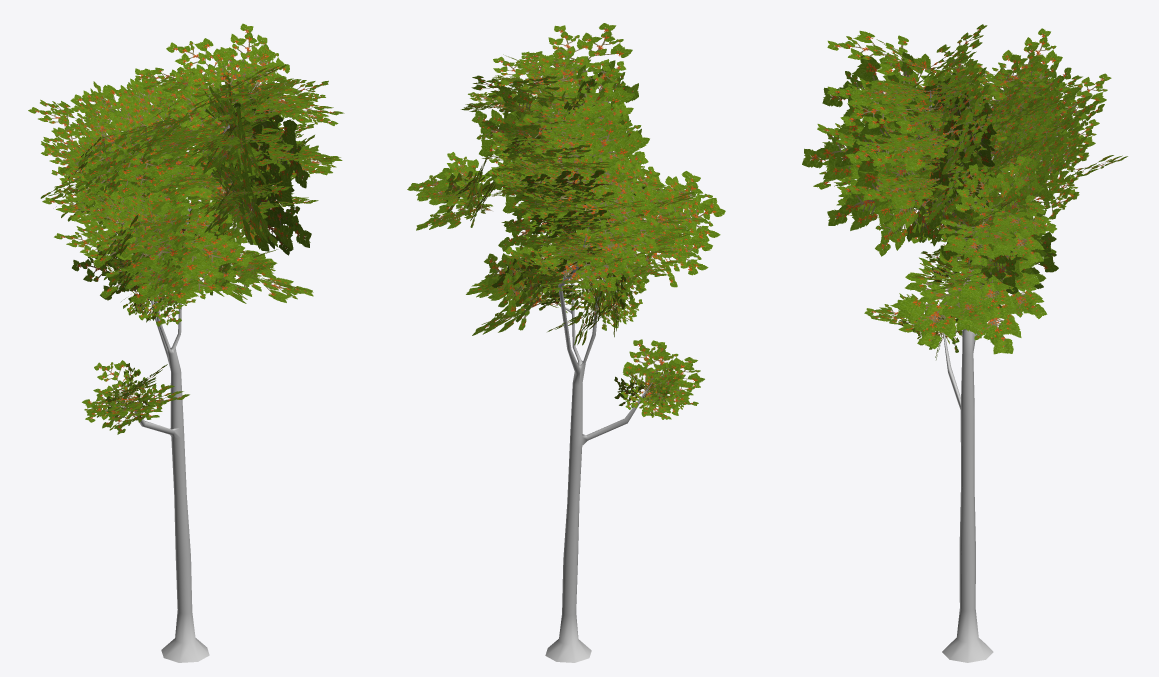
Rendered from CÁMBULO_vINTEGRACION.fbx.
3 renders of one model, left to right at view 1: azimuth 30°, elevation 25°; view 2: azimuth 150°, elevation 25°; view 3: azimuth 270°, elevation 25°, orthographic. The views are drawn at different scales.
Parts seen in each view (by area): view 1: cambulo_LOD0; view 2: cambulo_LOD0; view 3: cambulo_LOD0.
Part boxes in pixels (x1,y1,x2,y2): cambulo_LOD0: [28, 23, 344, 662]; cambulo_LOD0: [407, 23, 725, 662]; cambulo_LOD0: [802, 24, 1127, 662].
Size of what is drawn, in the model's own units: 5.21 by 9.89 by 5.04.
